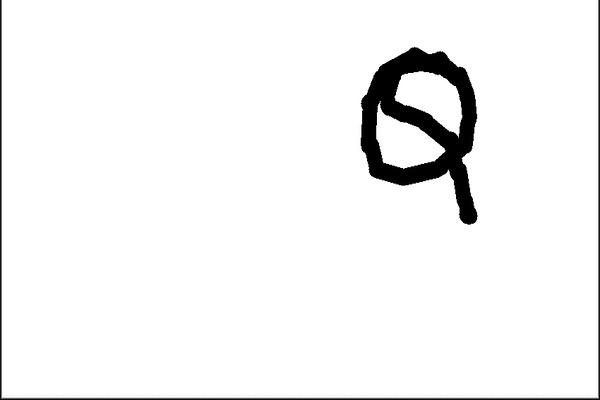Q: (340, 38, 501, 235)
